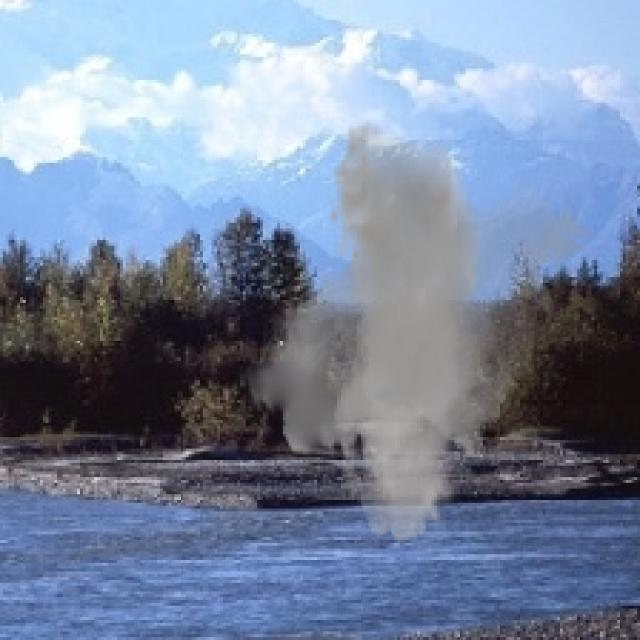Smoke: (237, 120, 594, 543)
